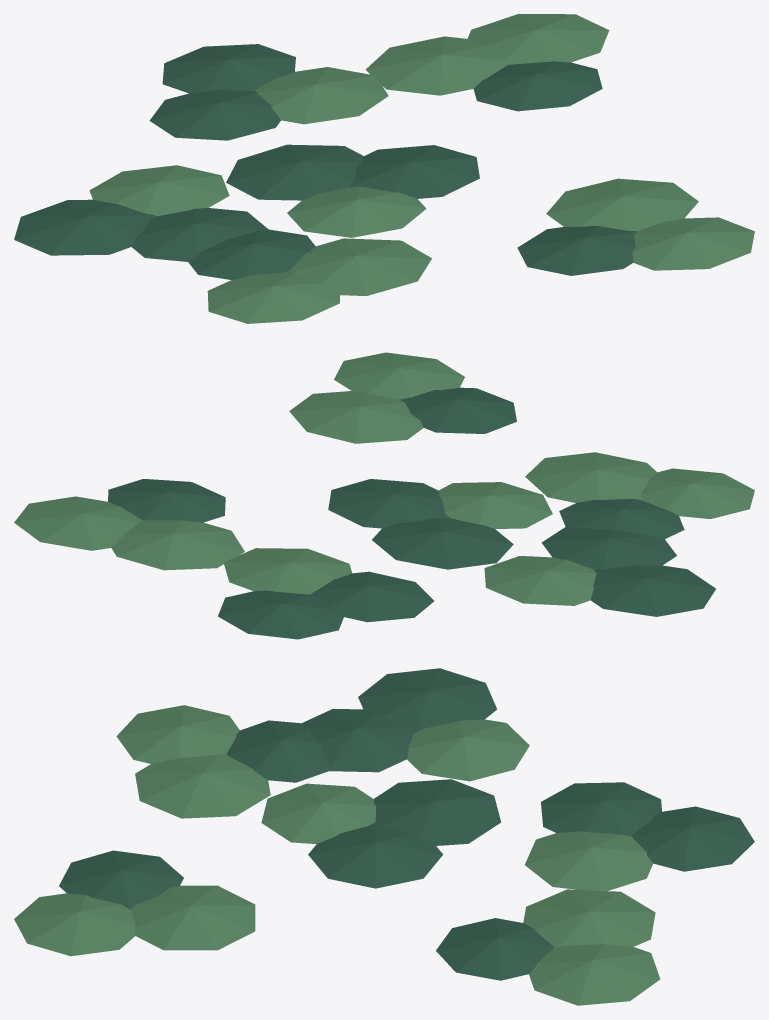
Rendered from flat.clover.a.glb.
3 views of the same model, one above another, from view 1: azimuth 30°, elevation 25°; view 2: azimuth 150°, elevation 25°; view 3: azimuth 270°, elevation 25° (orthographic). The views are drawn at different scales.
Size of the model in its own units: 0.6778 by 0.011 by 0.6288.
